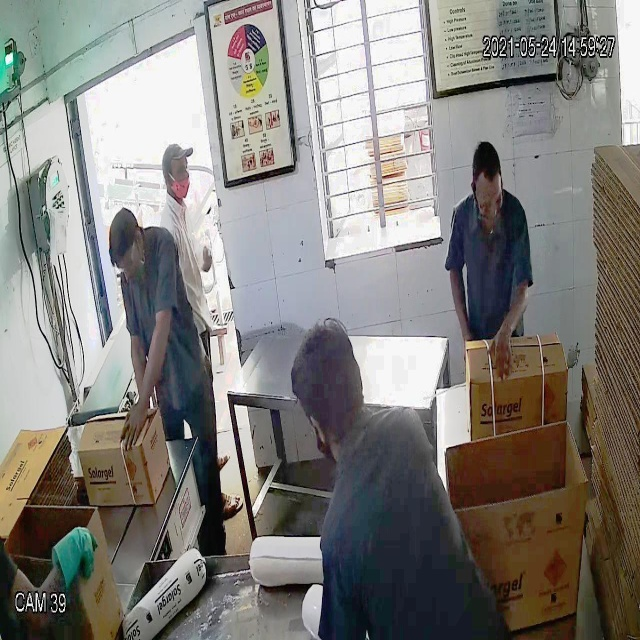Gafas: (472, 188, 507, 221)
